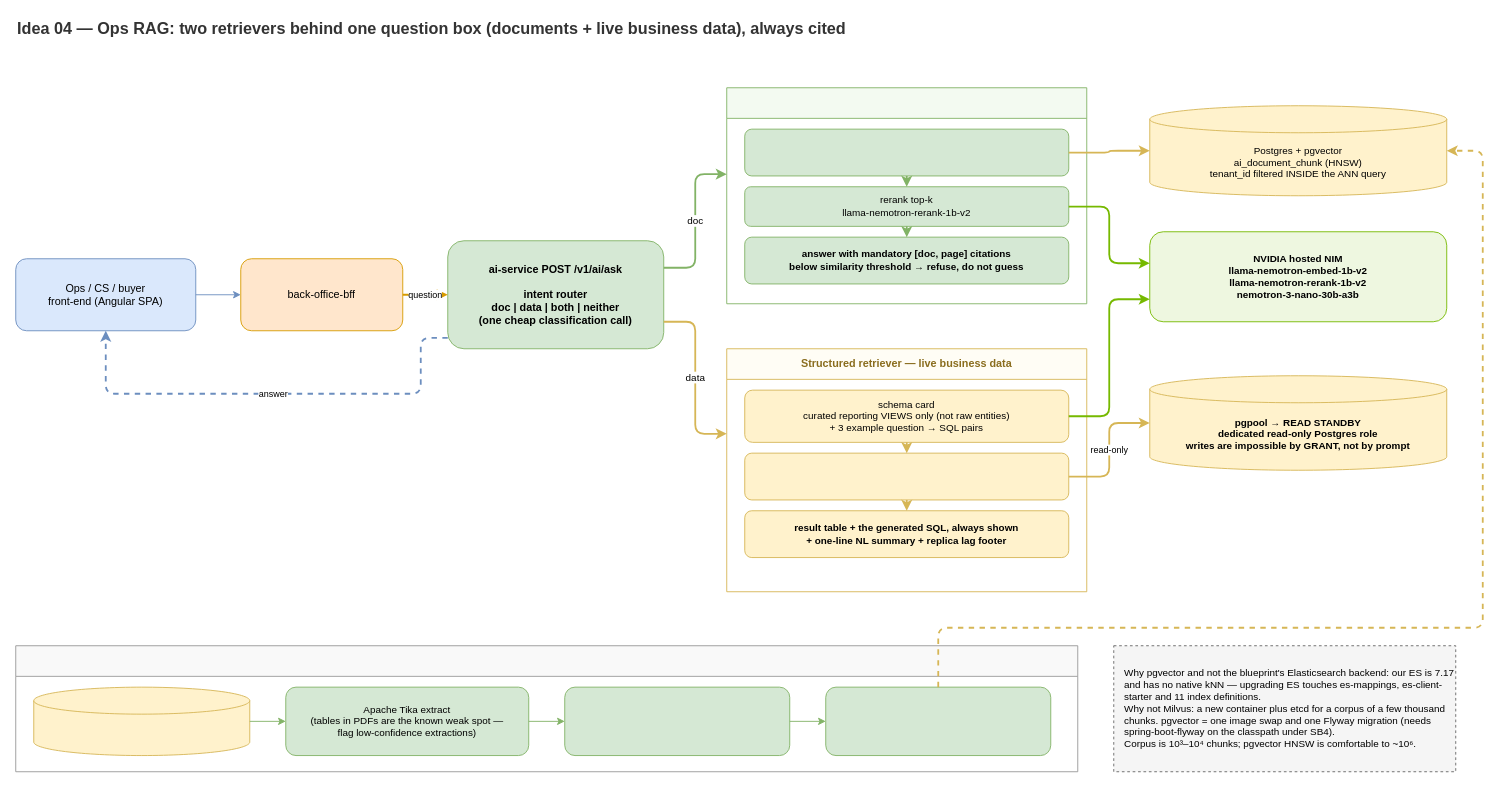
Image size: 1507x788. Some labels were removed from this diagram. The box of each missing label's shape, as (x1, y1, x2, y2) in pixels:
chunk with overlap store model_version per chunk: (564, 686, 790, 756)
embed → pgvector: (825, 686, 1051, 756)
embed(query) → hybrid retrieval pgvector cosine + Postgres tsvector BM25: (744, 128, 1069, 176)
Ingestion (one-off per document, job in workflow-service): (15, 645, 1078, 772)
LLM → SQL EXPLAIN before execute · row cap · statement_timeout: (744, 452, 1069, 500)
MinIO SOPs · manuals · policies promotion T&Cs · contracts: (33, 686, 250, 756)
Unstructured retriever — documents: (726, 87, 1087, 304)
